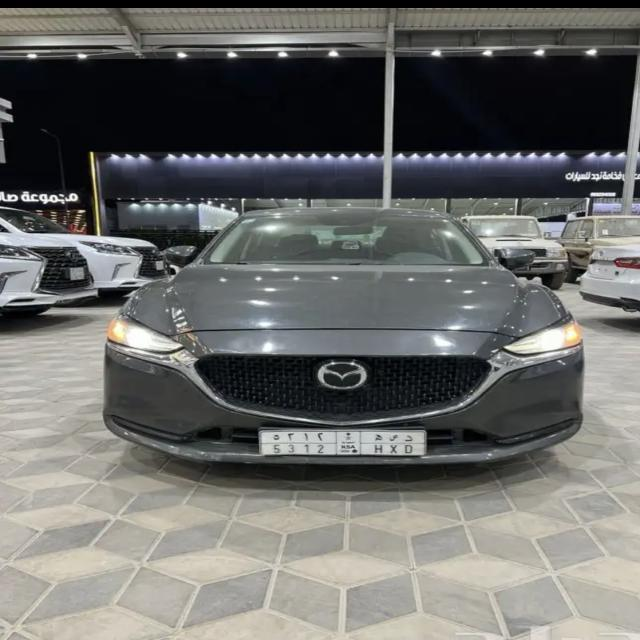license_plate: (258, 429, 428, 458)
